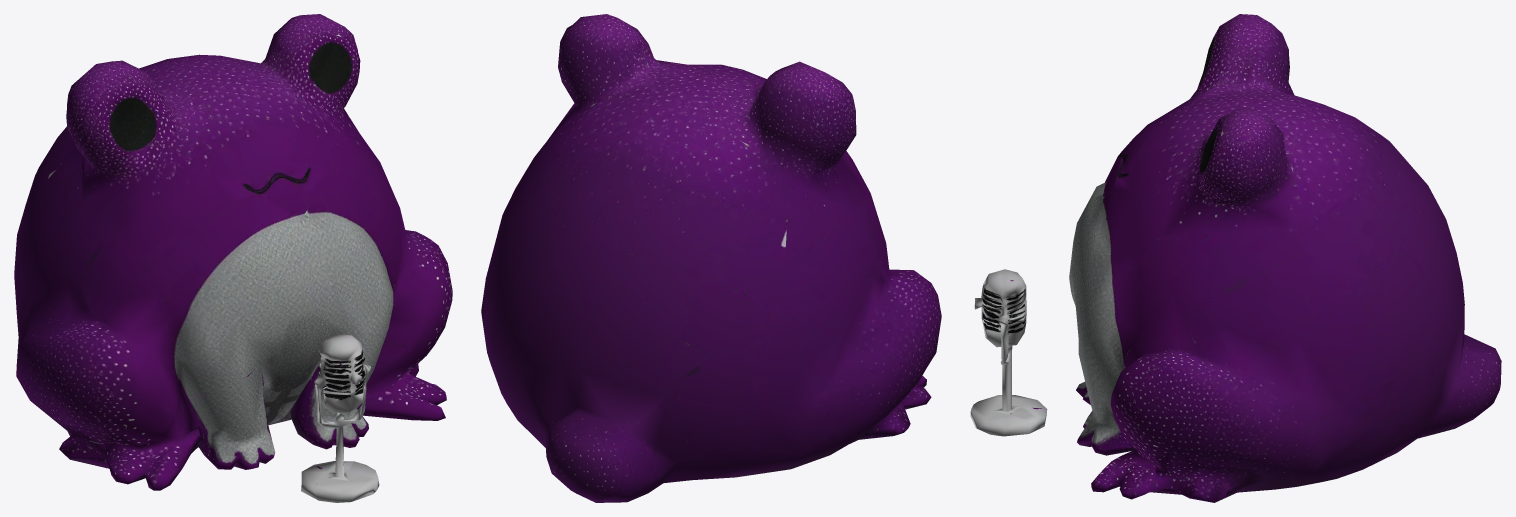
3 renders of one model, left to right at view 1: azimuth 30°, elevation 25°; view 2: azimuth 150°, elevation 25°; view 3: azimuth 270°, elevation 25°, orthographic. The views are drawn at different scales.
Visible parts, largest first — view 1: mesh_node; view 2: mesh_node; view 3: mesh_node.
Part boxes in pixels (bbox=[...]): mesh_node: bbox=[14, 14, 452, 502]; mesh_node: bbox=[481, 14, 941, 502]; mesh_node: bbox=[970, 14, 1501, 502].
Size of the model in its own units: 1.61 by 1.38 by 1.89.
1 material, 1 textured.
